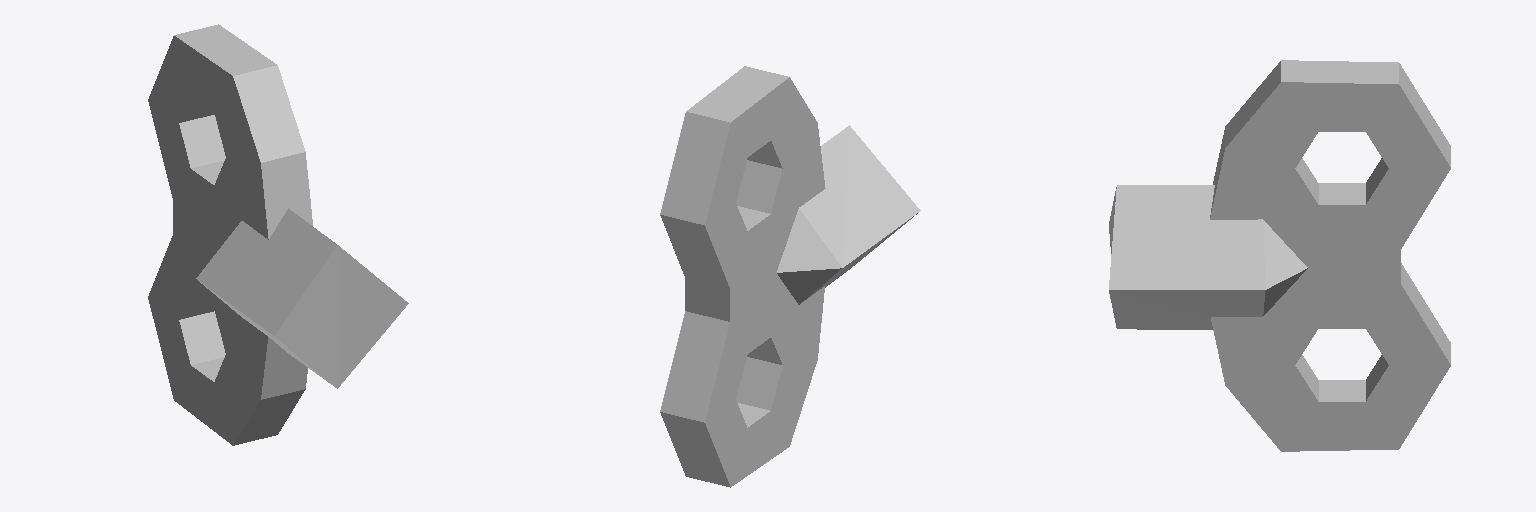
Rendered from windup.obj.
3 views of the same model, side by side, from view 1: azimuth 30°, elevation 25°; view 2: azimuth 150°, elevation 25°; view 3: azimuth 270°, elevation 25° (orthographic).
Visible parts, largest first — view 1: polySurface7; view 2: polySurface7; view 3: polySurface7.
Part boxes in pixels (bbox=[...]): polySurface7: bbox=[148, 24, 408, 445]; polySurface7: bbox=[660, 66, 920, 487]; polySurface7: bbox=[1109, 60, 1450, 451].
Size of the model in its own units: 0.1256 by 0.3296 by 0.2766.